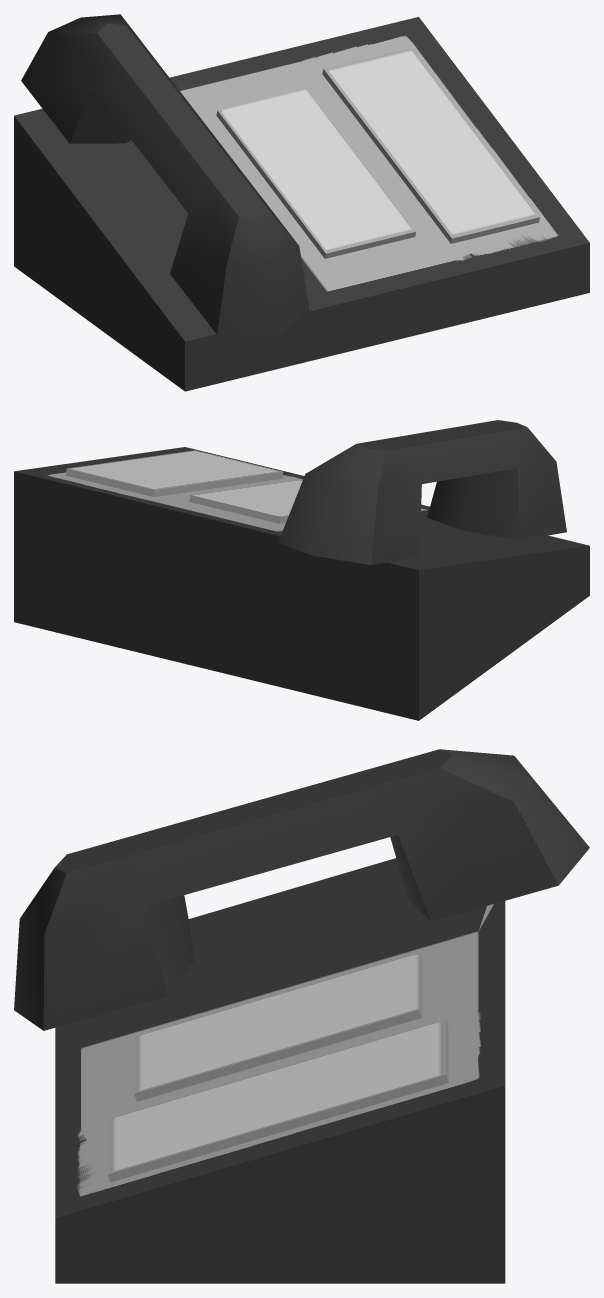
The model's file is Phone.fbx.
3 renders of one model, top to bottom at view 1: azimuth 30°, elevation 25°; view 2: azimuth 150°, elevation 25°; view 3: azimuth 270°, elevation 25°, orthographic. The views are drawn at different scales.
Visible parts, largest first — view 1: phone1; view 2: phone1; view 3: phone1.
Part boxes in pixels (bbox=[...]): phone1: bbox=[14, 14, 589, 391]; phone1: bbox=[14, 420, 589, 720]; phone1: bbox=[14, 749, 589, 1283].
Size of the model in its own units: 1.49 by 0.8446 by 1.4.
